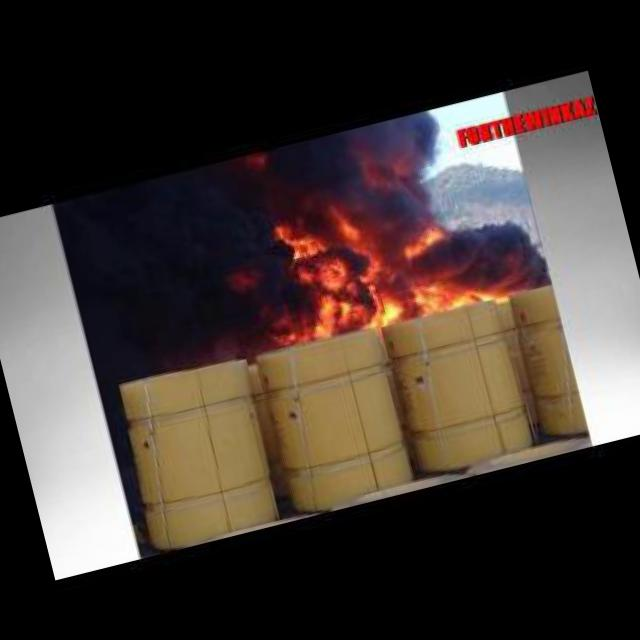fire: (246, 171, 516, 353)
